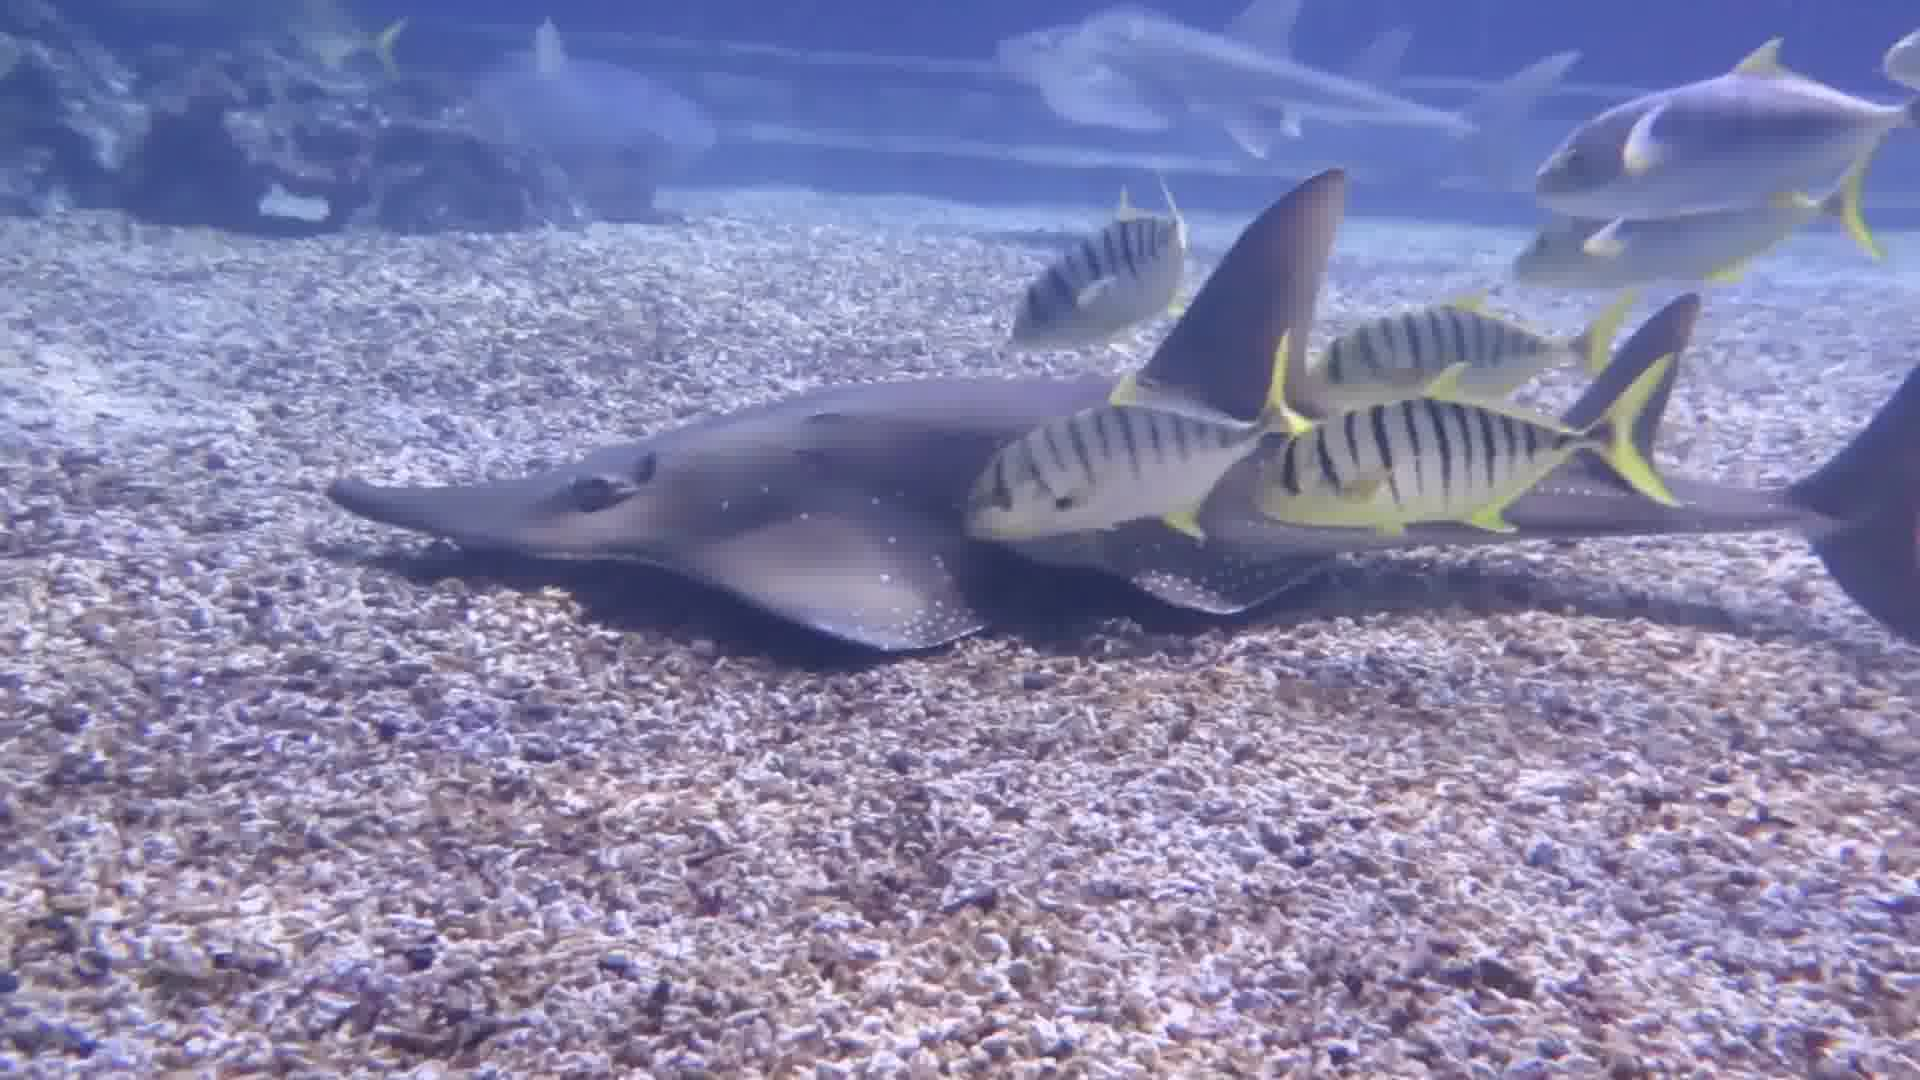Rhychobatus djiddensis: (272, 196, 1920, 676)
